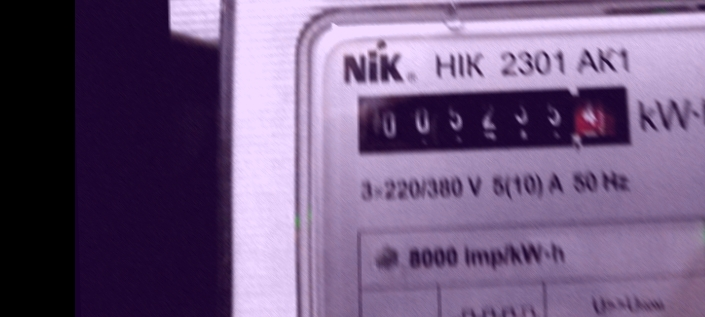0: (411, 103, 432, 137), (379, 108, 398, 139)
2: (477, 98, 499, 133)
3: (509, 95, 534, 129)
4: (578, 93, 601, 130)
5: (543, 93, 566, 130), (445, 100, 465, 134)
screen: (339, 72, 644, 167)
